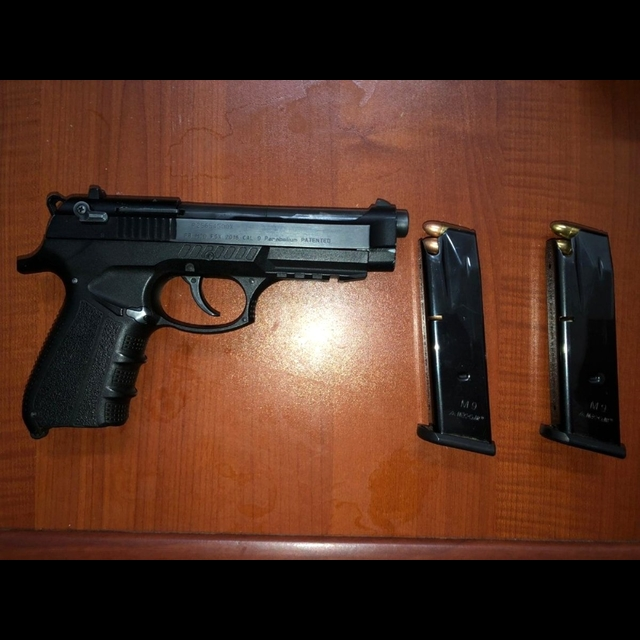SILAH: (13, 166, 417, 441)
